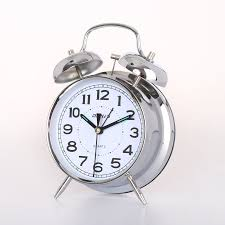alarm_clock: (42, 21, 175, 204), (42, 27, 175, 204)
